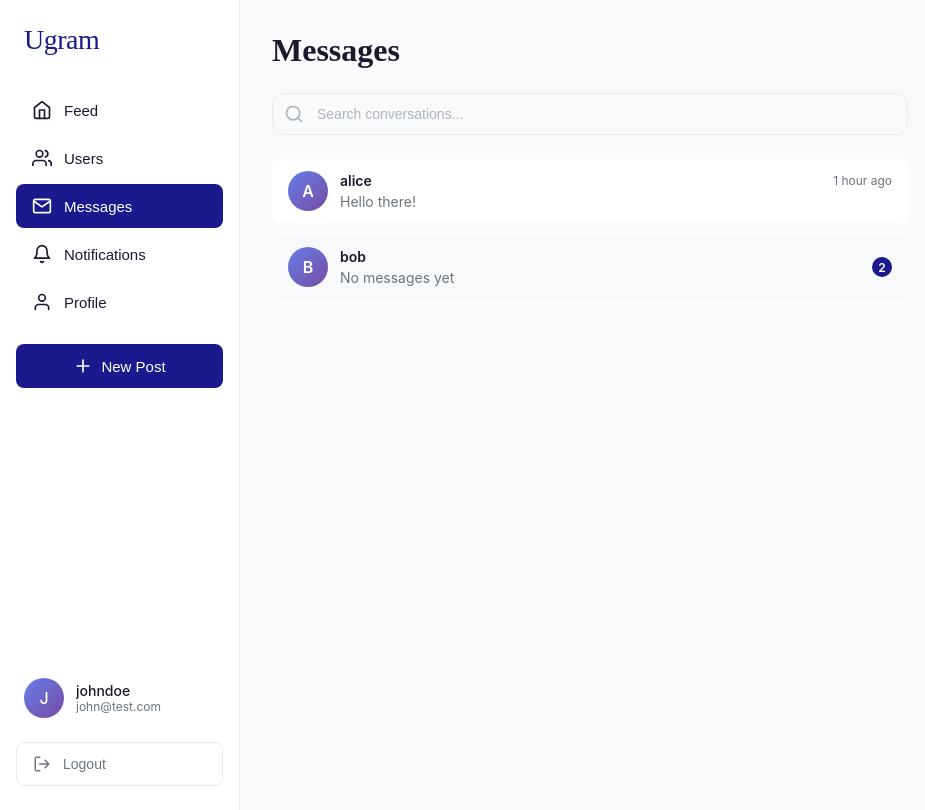
Test: MessagesPage › filters conversations by full name
Check: the text "alice" is shown, box [340,172,372,189]
Type "Bob Jones" into the field with placeholder "Search conversations...".
click(590, 114); type("Bob Jones")  # box [272,93,908,135]
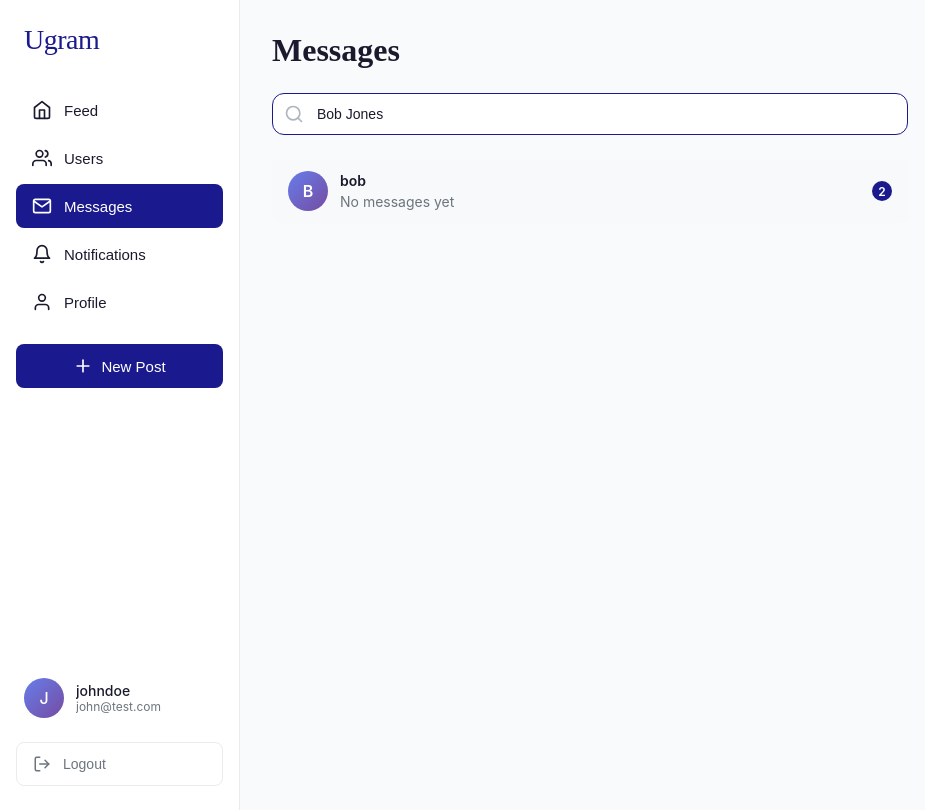
Check: the text "bob" is shown, box [340,172,366,189]
Check: the button "alice" is gone
